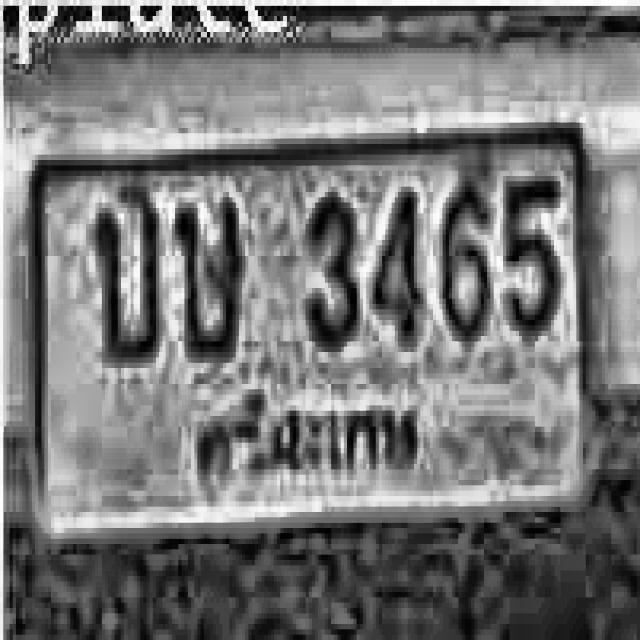license-plate: (31, 117, 596, 552)
